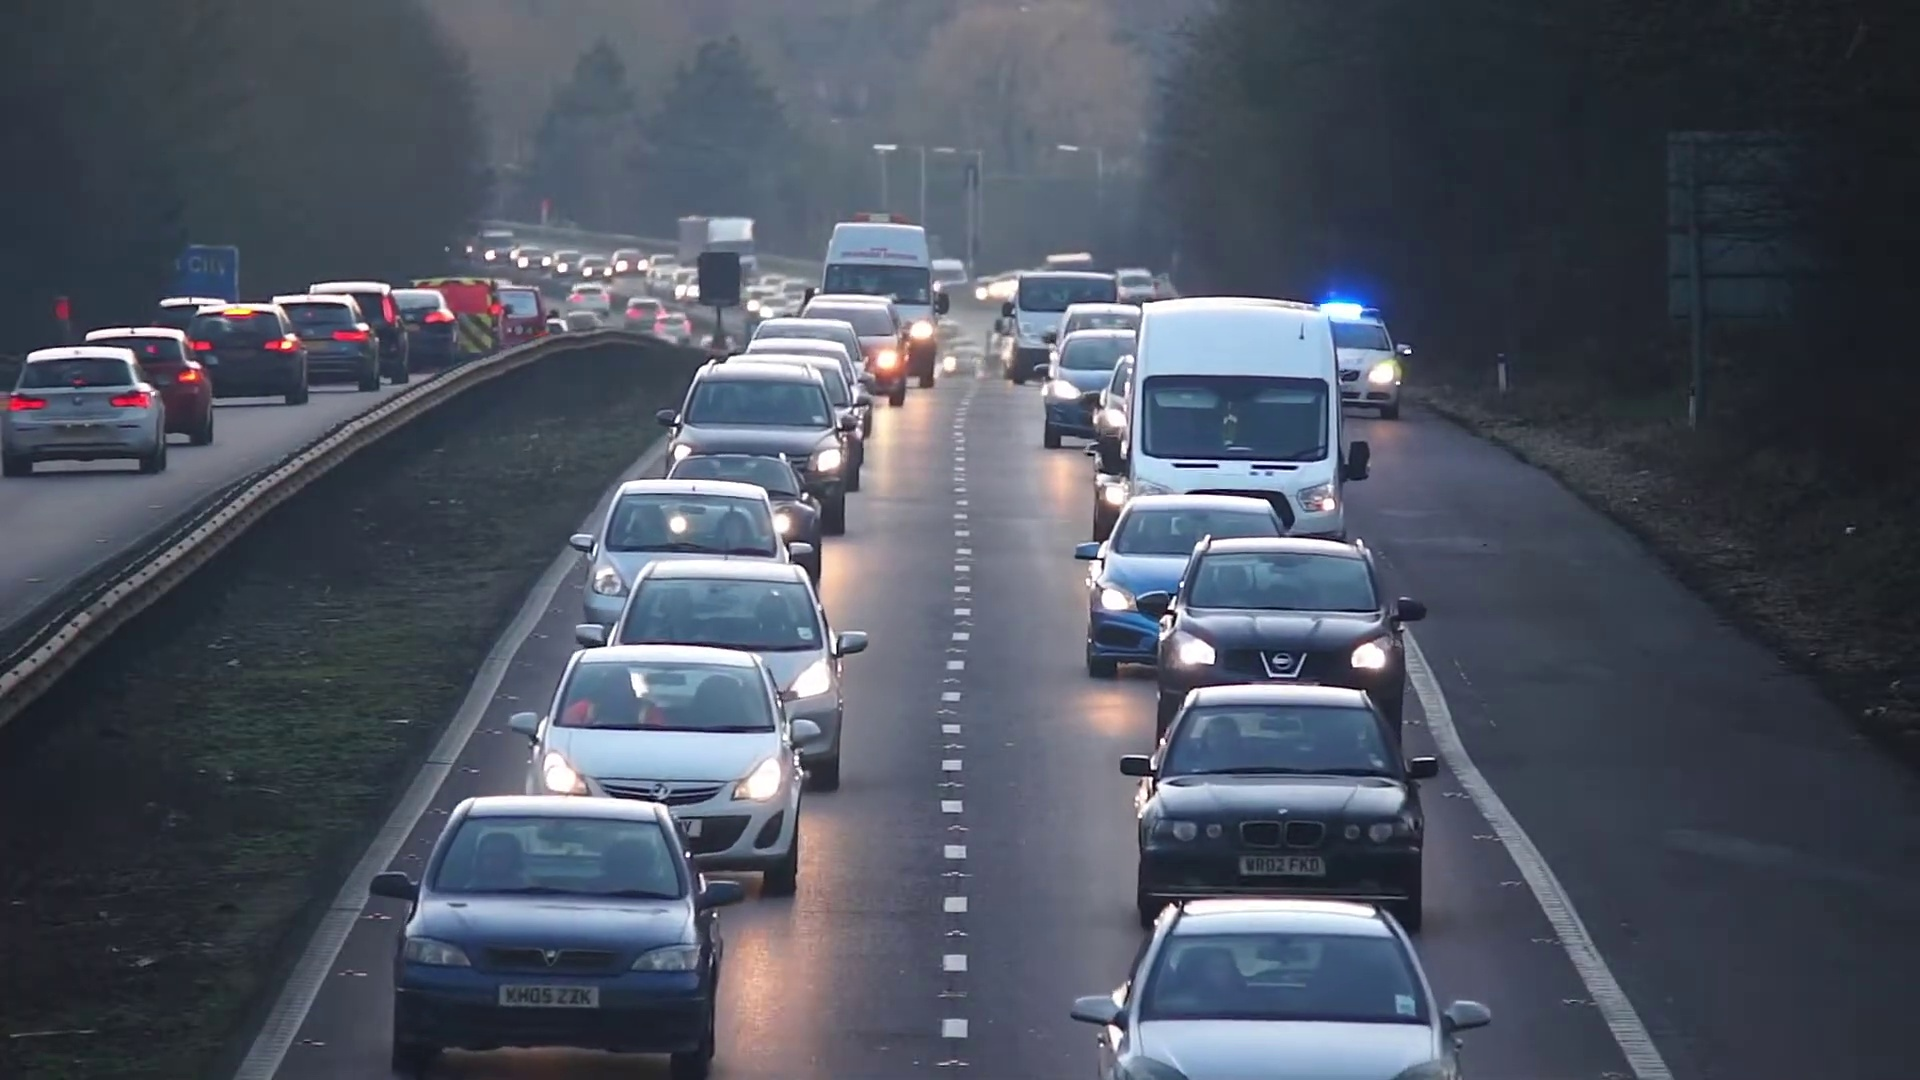license_plate: (1231, 851, 1330, 883), (496, 982, 599, 1010)
